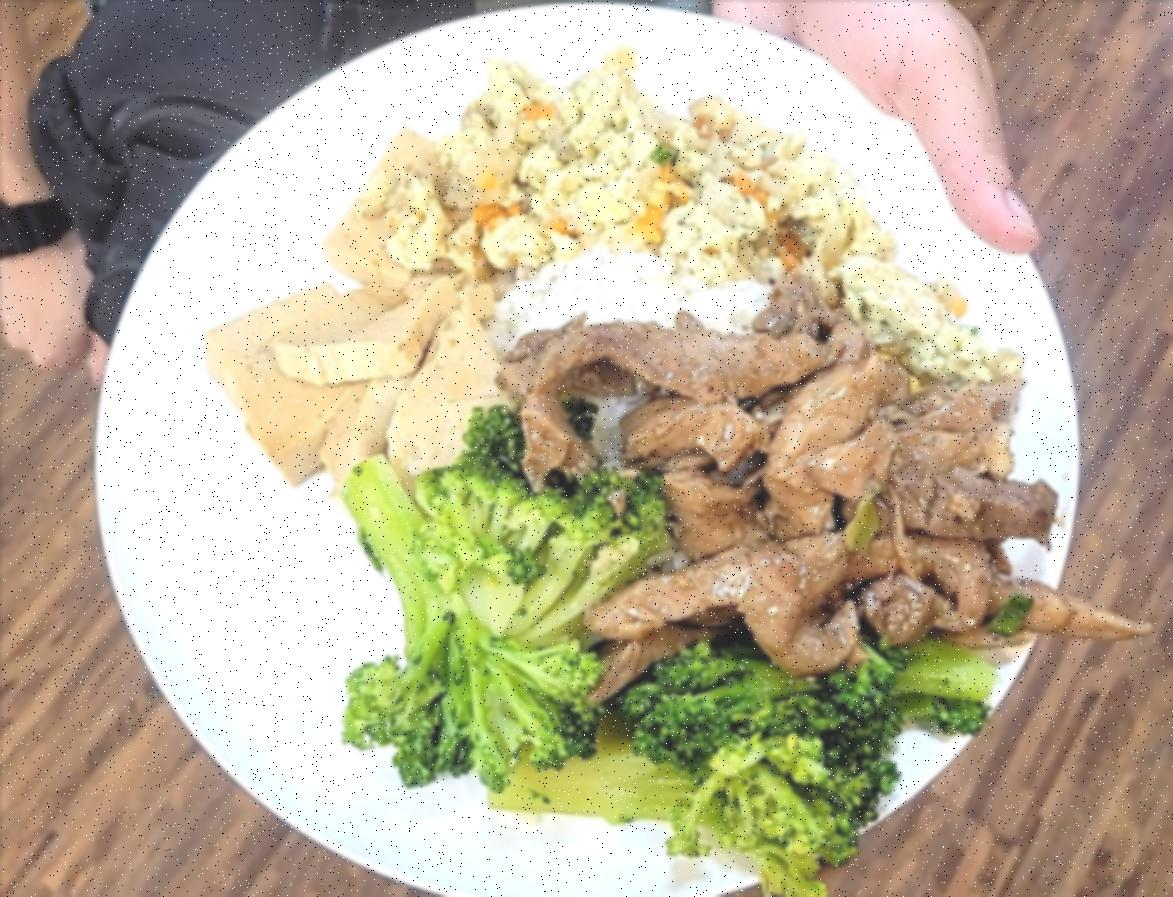plate: (82, 8, 1100, 897)
shacha pork: (515, 305, 1078, 642)
side dish: (326, 456, 990, 870), (418, 48, 952, 338), (223, 130, 496, 490)
white rice: (481, 242, 800, 490)
